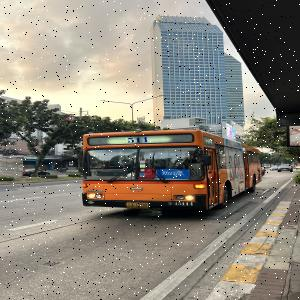BMTA-bus: (77, 128, 263, 213)
Bus Line Number: (125, 136, 150, 144), (204, 137, 214, 146)
Bus Side Number: (165, 201, 194, 207)
Destination Sign: (156, 169, 190, 179)
